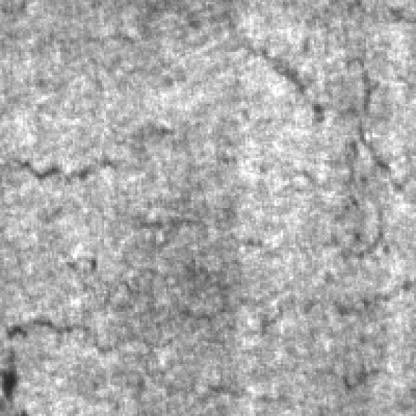crazing: (195, 6, 397, 416), (2, 283, 408, 416), (0, 154, 179, 358)
